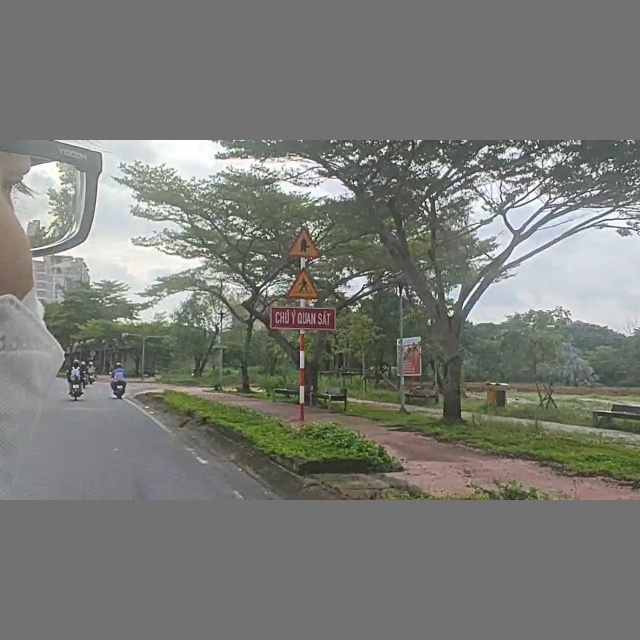W.207: (285, 223, 327, 259)
W.224: (281, 267, 326, 300)
